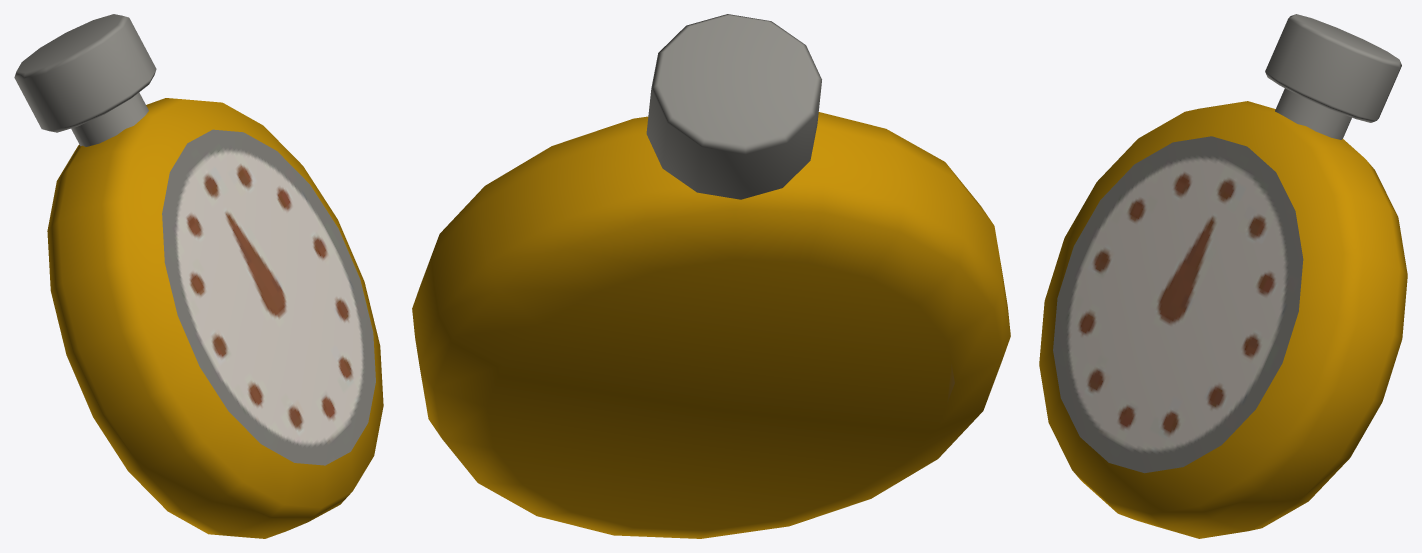
The model's file is UnitIconTimer.glb.
The picture shows the model from 3 angles, left to right: view 1: azimuth 30°, elevation 25°; view 2: azimuth 150°, elevation 25°; view 3: azimuth 270°, elevation 25°; orthographic projection. The views are drawn at different scales.
Parts seen in each view (by area): view 1: Base__mBody; view 2: Base__mBody; view 3: Base__mBody.
Part boxes in pixels (left/top/right/bottom): Base__mBody: left=14, top=14, right=383, bottom=538; Base__mBody: left=412, top=14, right=1010, bottom=538; Base__mBody: left=1039, top=14, right=1407, bottom=538.
Bounding box in the file's own units: 3.16 × 3.9 × 2.85.
1 material, 1 textured.
